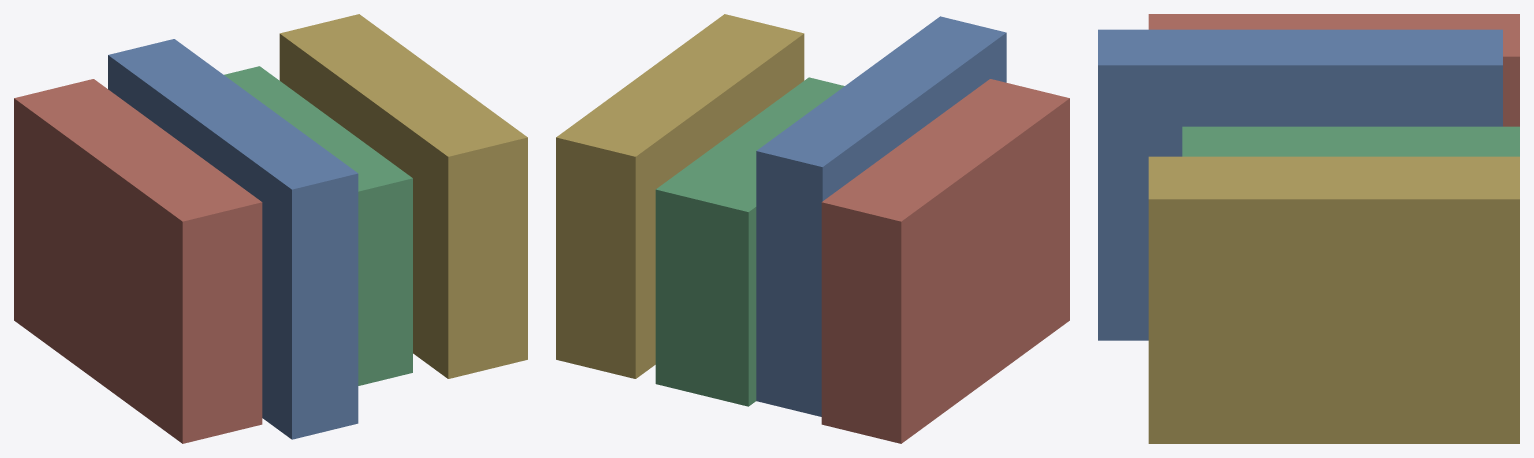
The model's file is books.glb.
The picture shows the model from 3 angles, left to right: view 1: azimuth 30°, elevation 25°; view 2: azimuth 150°, elevation 25°; view 3: azimuth 270°, elevation 25°; orthographic projection. The views are drawn at different scales.
Bounding box in the file's own units: 0.26 × 0.18 × 0.25.
